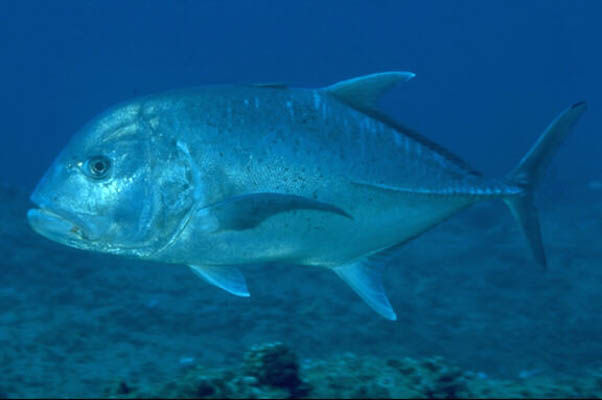fish: (25, 69, 587, 323)
